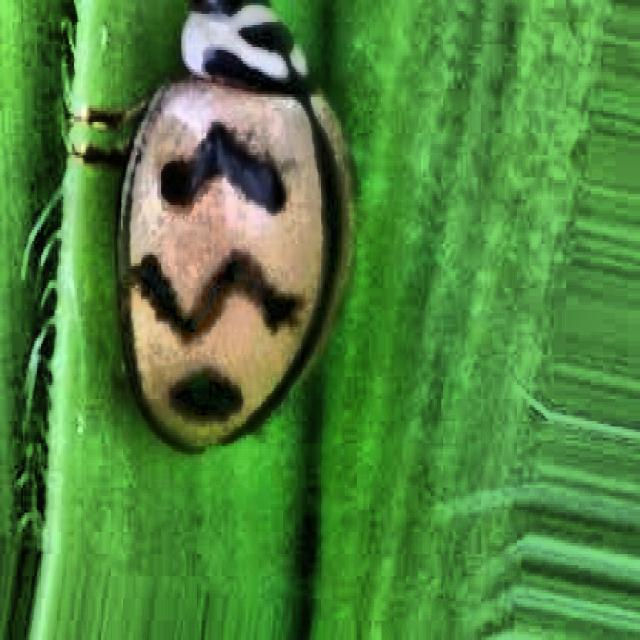Asian-Lady-beetle: (29, 3, 374, 554)
